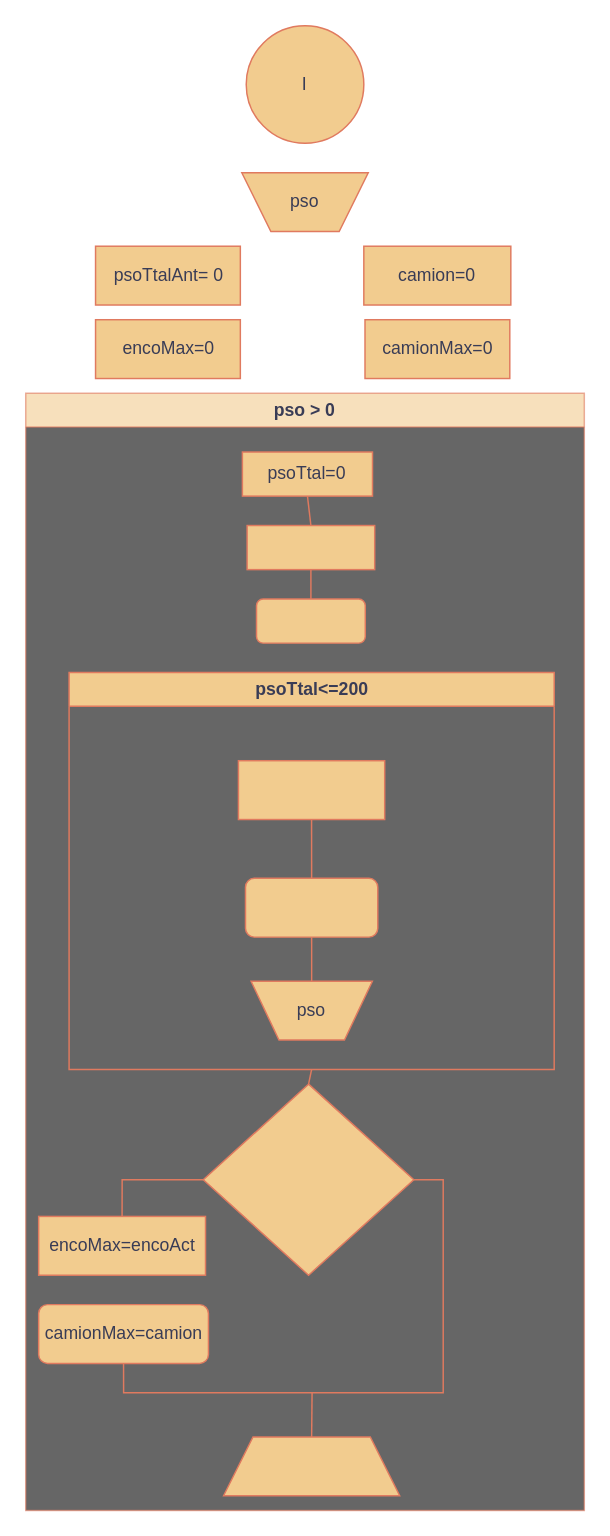
Image size: 610x1536. Some labels were removed from this diagram. The centre of each missing label's shape, as x and y in pixels:
camion++: the point at 310,547
camion, psoTtal: the point at 311,1465
encoAct ++: the point at 311,907
encoAct=0: the point at 310,620
encoMax== 0 && encoAct > encoMax: the point at 308,1179
psoTtal+=pso: the point at 311,789
